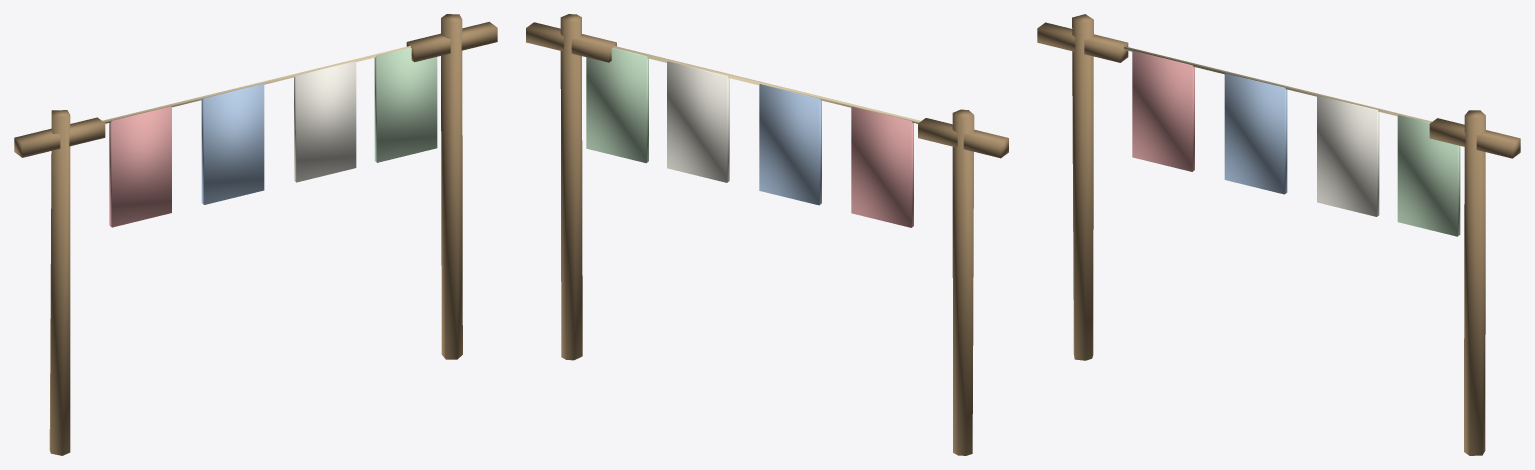
Rendered from prop_laundry.glb.
The picture shows the model from 3 angles, left to right: view 1: azimuth 30°, elevation 25°; view 2: azimuth 150°, elevation 25°; view 3: azimuth 330°, elevation 25°; orthographic projection.
Parts seen in each view (by area): view 1: prop_laundry; view 2: prop_laundry; view 3: prop_laundry.
Boxes of the visible parts, x1,y1,x2,y2 form: prop_laundry: (14,14,497,455); prop_laundry: (526,14,1008,455); prop_laundry: (1037,14,1520,455).
Bounding box in the file's own units: 2.06 × 1.4 × 0.08.
